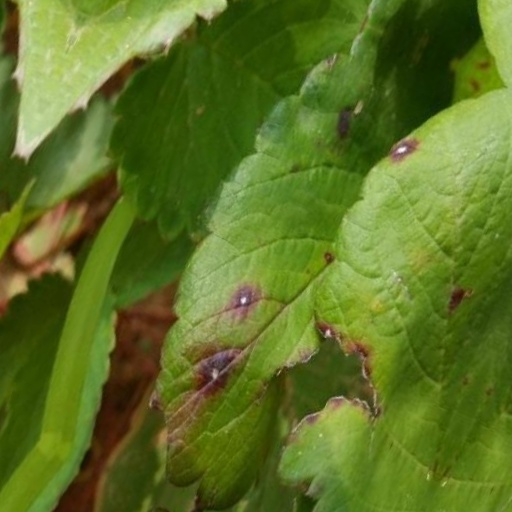Leaf Spot: (319, 0, 511, 511), (194, 0, 376, 511)
